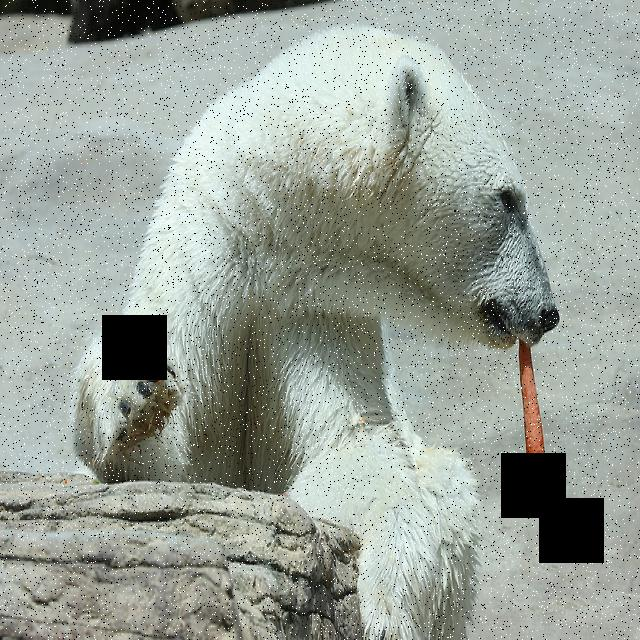Bear: (66, 38, 554, 620)
